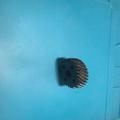gear: (58, 56, 88, 89)
